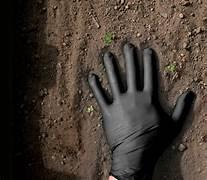Glove: (88, 43, 193, 179)
